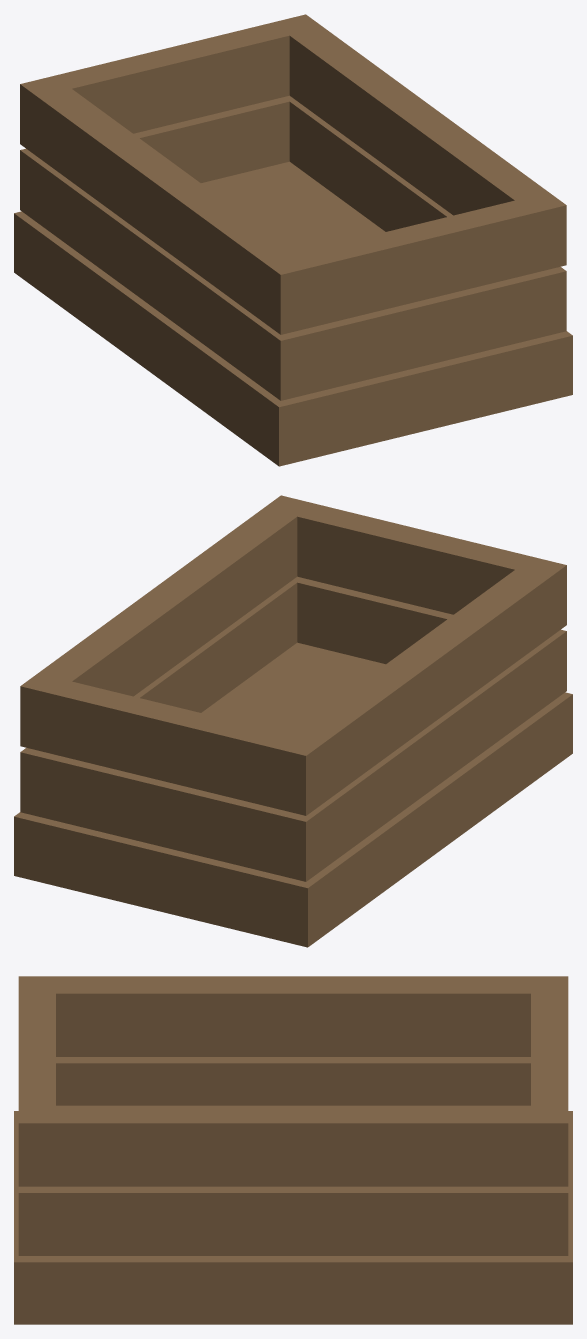
3 views of the same model, one above another, from view 1: azimuth 30°, elevation 25°; view 2: azimuth 150°, elevation 25°; view 3: azimuth 270°, elevation 25° (orthographic). The views are drawn at different scales.
Visible parts, largest first — view 1: Box_3; view 2: Box_3; view 3: Box_3.
Part boxes in pixels (x1,y1,x2,y2): Box_3: [14, 14, 572, 466]; Box_3: [14, 495, 572, 947]; Box_3: [14, 976, 572, 1324].
Bounding box in the file's own units: 13.36 × 8.21 × 20.88.
1 material, 1 textured.
